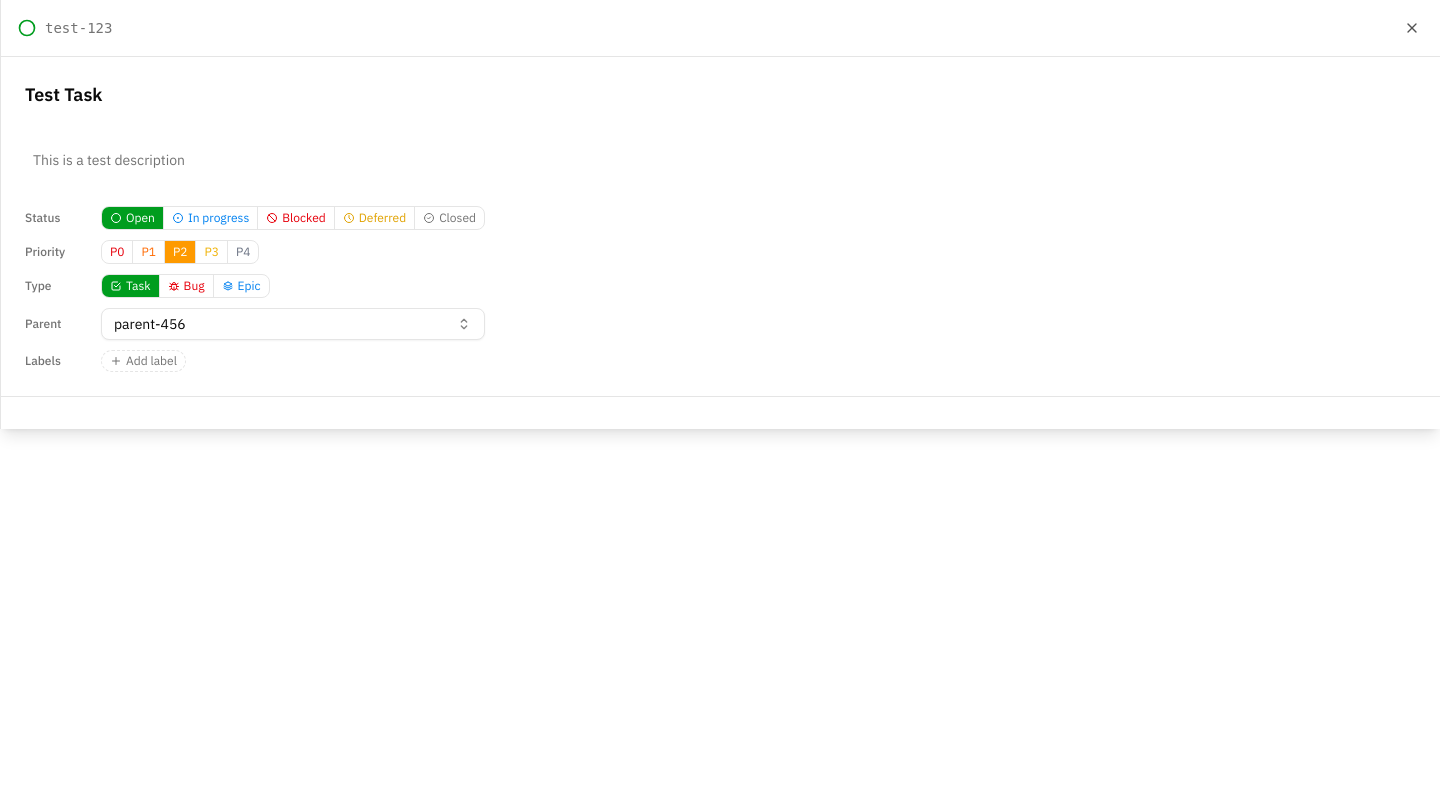
Test: TaskDetailsDialog › editing › excludes self and children from parent options
The width and height of the screenshot is (1440, 810).
Click on the parent combobox
Step 1. Click the dropdown labelled "parent-456" → (150, 324), box [101,308,485,340]
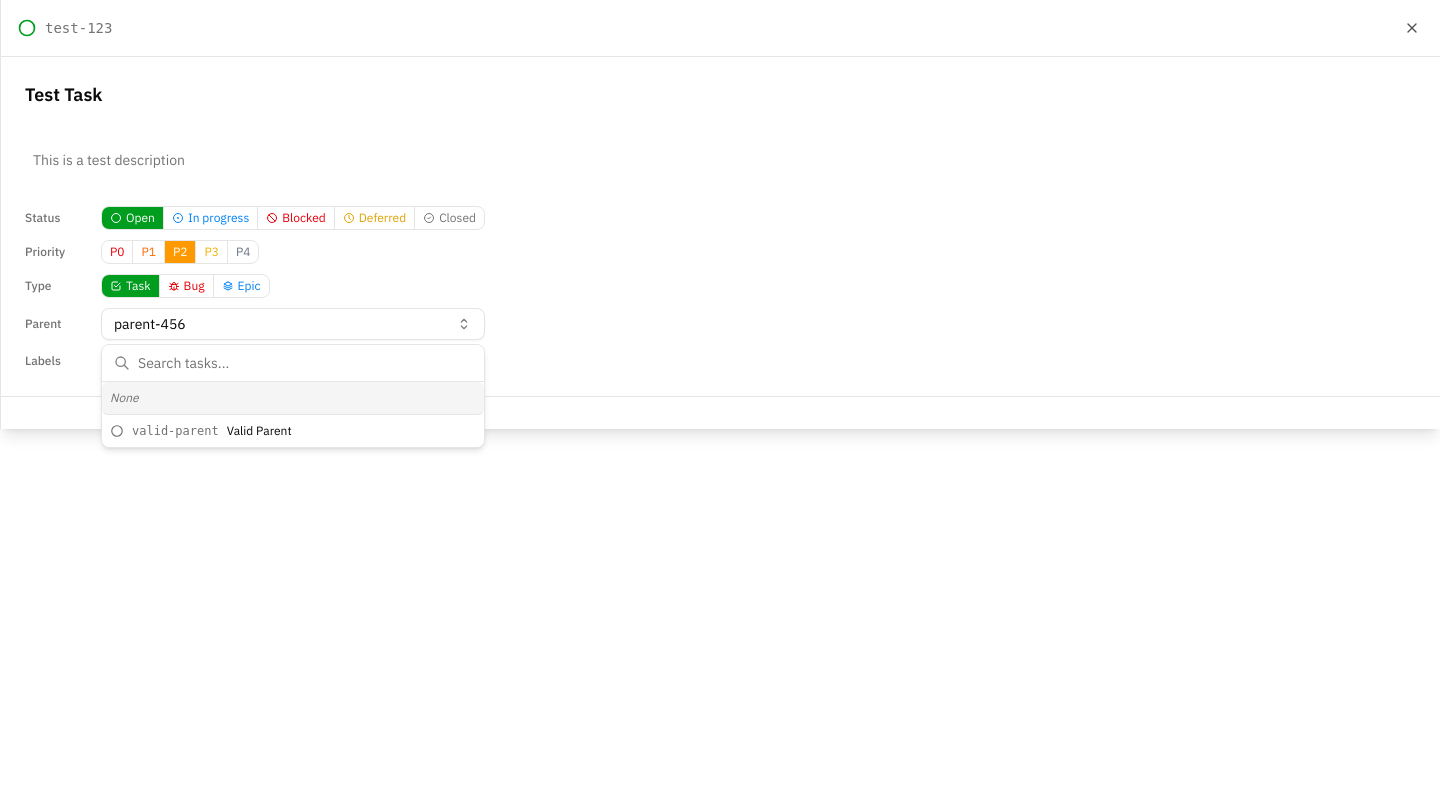
Now the button "valid-parent" is shown, box [132,423,219,439]
